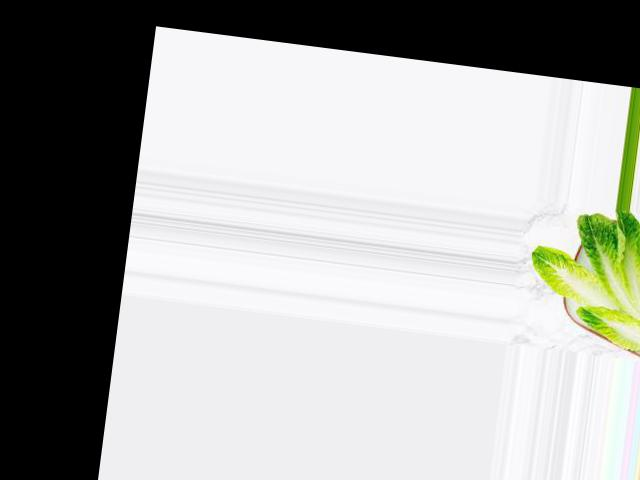lettuce: (511, 165, 640, 335)
